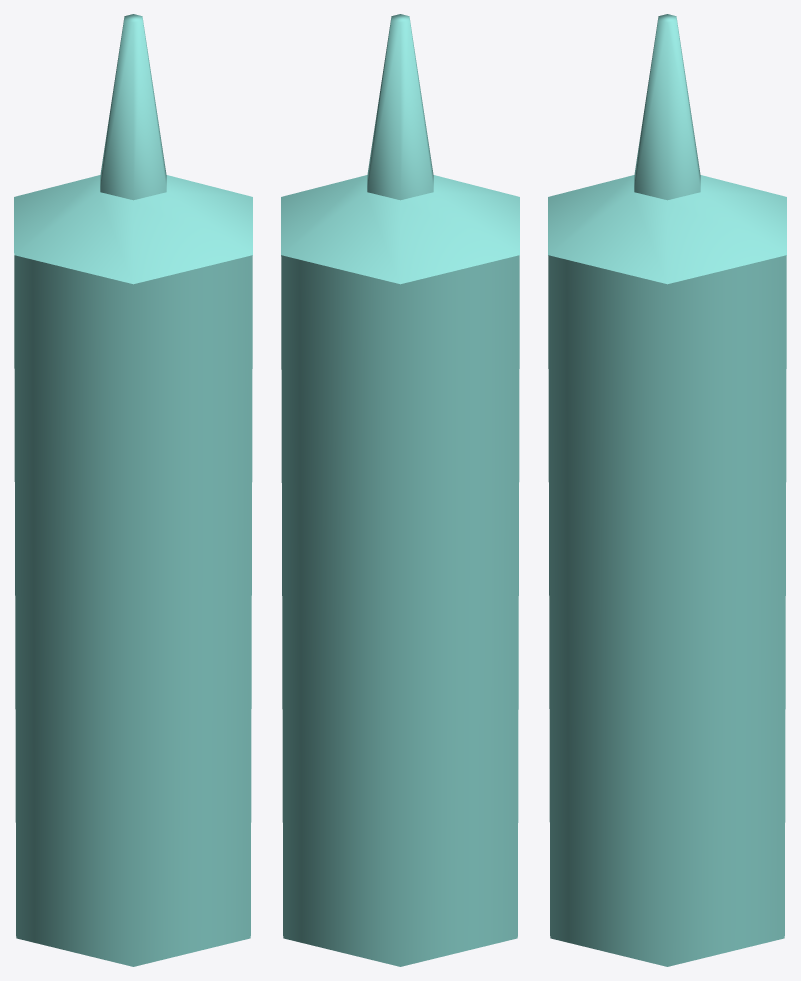
File: Catchup_Collision.fbx
3 renders of one model, left to right at view 1: azimuth 30°, elevation 25°; view 2: azimuth 150°, elevation 25°; view 3: azimuth 270°, elevation 25°, orthographic.
Parts seen in each view (by area): view 1: Catchup_Collision; view 2: Catchup_Collision; view 3: Catchup_Collision.
Part boxes in pixels (x1,y1,x2,y2): Catchup_Collision: [14, 14, 252, 966]; Catchup_Collision: [281, 14, 519, 966]; Catchup_Collision: [548, 14, 786, 966].
Bounding box in the file's own units: 0.0502 × 0.179 × 0.0434.
